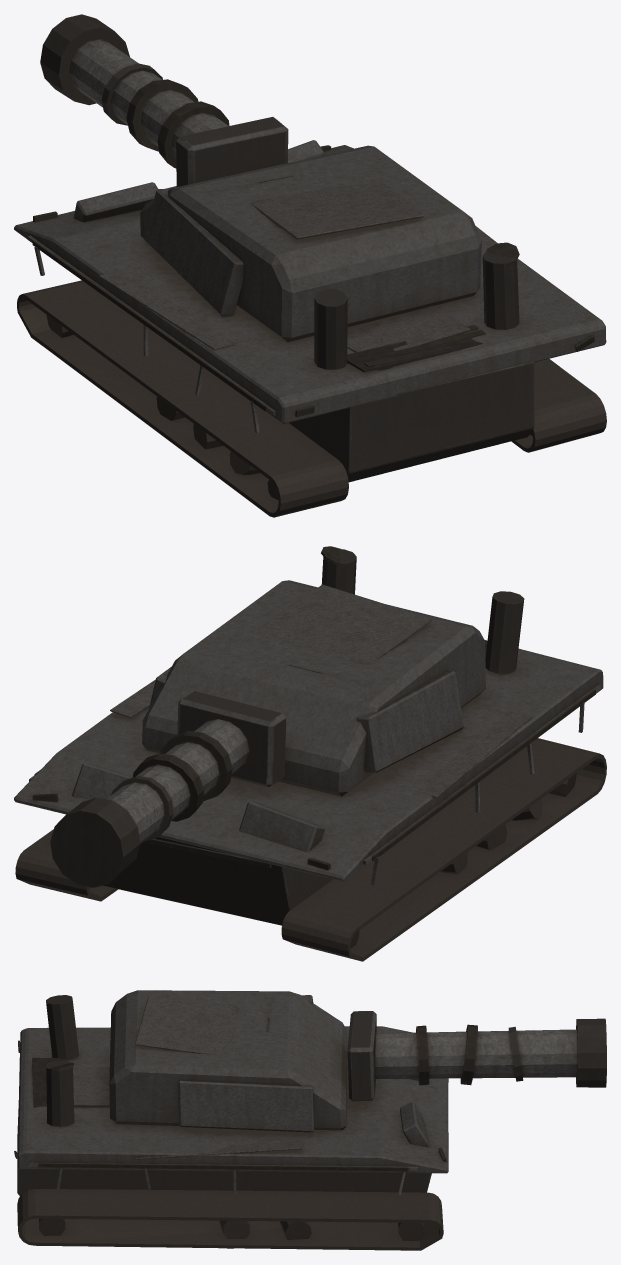
The model's file is chs_tzar_wreck.fbx.
The picture shows the model from 3 angles, top to bottom: view 1: azimuth 30°, elevation 25°; view 2: azimuth 150°, elevation 25°; view 3: azimuth 270°, elevation 25°; orthographic projection. The views are drawn at different scales.
Parts seen in each view (by area): view 1: base_bar, turret_bar, trackL_bar, trackR_bar; view 2: turret_bar, base_bar, trackL_bar, trackR_bar; view 3: turret_bar, base_bar, trackR_bar.
Boxes of the visible parts, box(x1,y1,x2,y2) form: base_bar: box(14, 140, 606, 482); turret_bar: box(40, 14, 481, 341); trackL_bar: box(17, 280, 348, 517); trackR_bar: box(511, 359, 606, 452); turret_bar: box(50, 580, 485, 887); base_bar: box(14, 546, 603, 925); trackL_bar: box(281, 738, 606, 961); trackR_bar: box(15, 829, 117, 901); turret_bar: box(109, 990, 606, 1132); base_bar: box(14, 995, 448, 1195); trackR_bar: box(17, 1189, 443, 1250).
Size of the model in its own units: 943 by 731 by 1745.
Materials: 2 (2 with a texture image).
